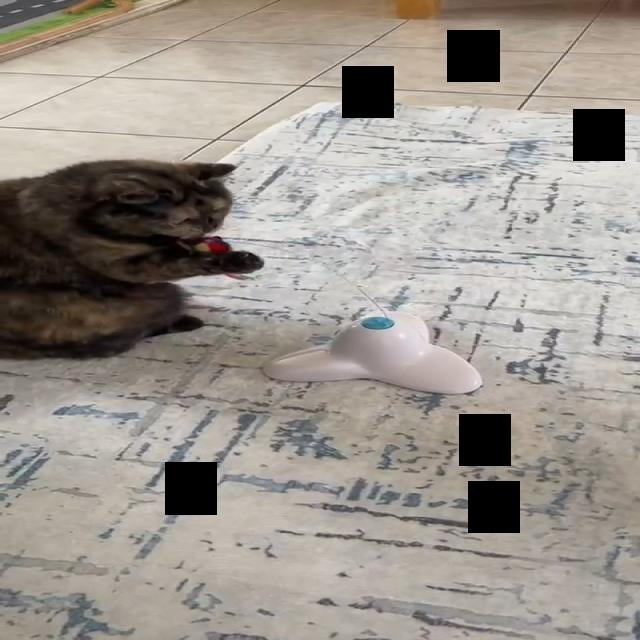authorized: (0, 158, 264, 360)
